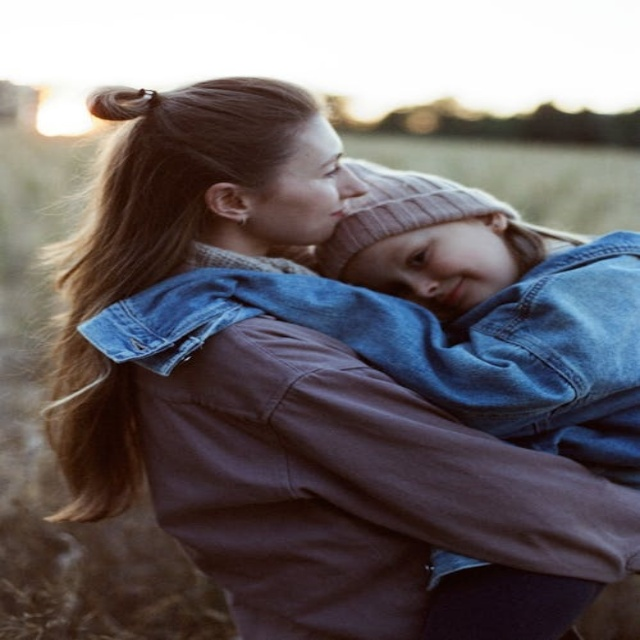Sin_gafas: (275, 149, 349, 184), (384, 234, 439, 270)
Sin_mascara: (289, 199, 349, 241), (433, 269, 477, 312)
